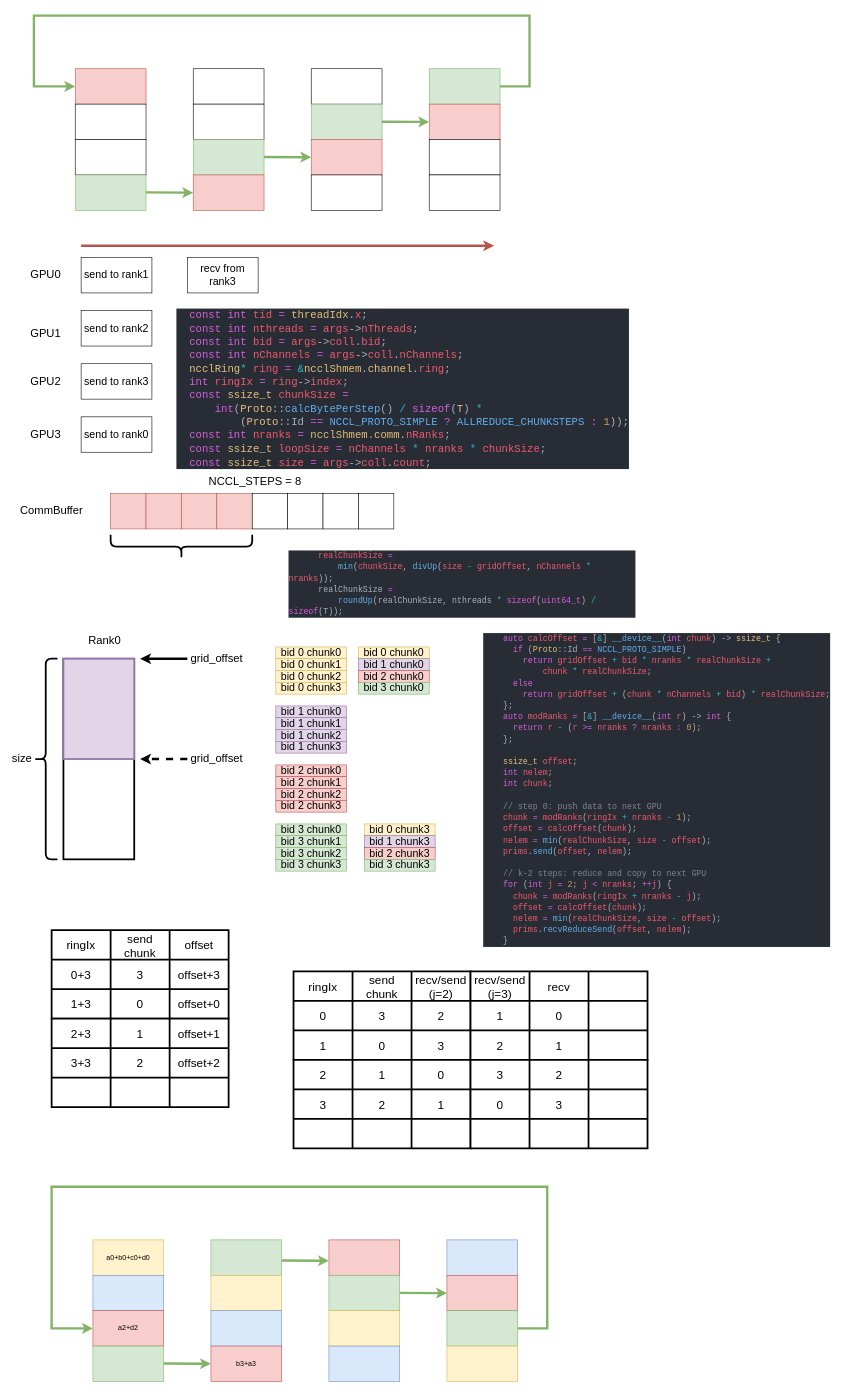
Some shapes in this 852 by 1392 pixel diagram are drawn without their labels. Each missing label, with the box of its shape:
a3: (92, 1345, 164, 1381)
chunkSize: (109, 534, 253, 559)
loopSize: (62, 658, 135, 760)
